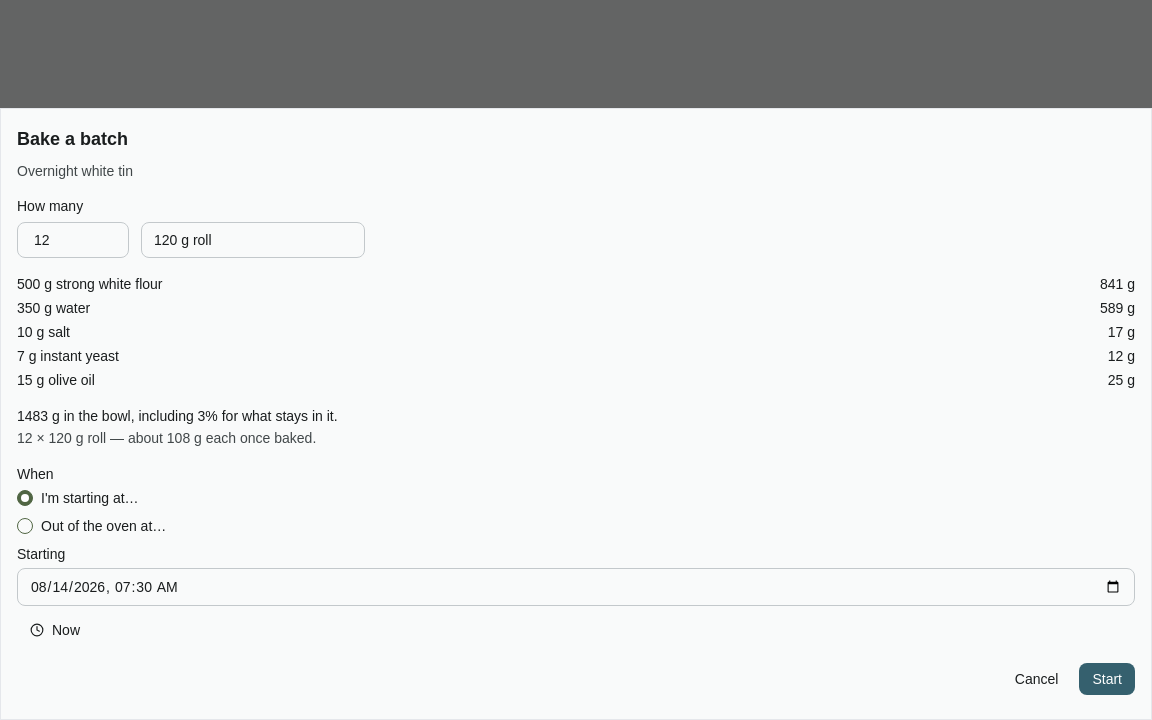
Test: RecipeBakeBatchSheet — what twelve rolls weigh out to › re-solves the moment the count changes
Expected: the list with test id "bake-batch-preview" is shown, top-left (17, 274), bottom-right (1135, 390)
Step 1. Replace the text in the field with test id "bake-batch-count" with "6" → [124, 240], box top-left (34, 230), bottom-right (215, 250)
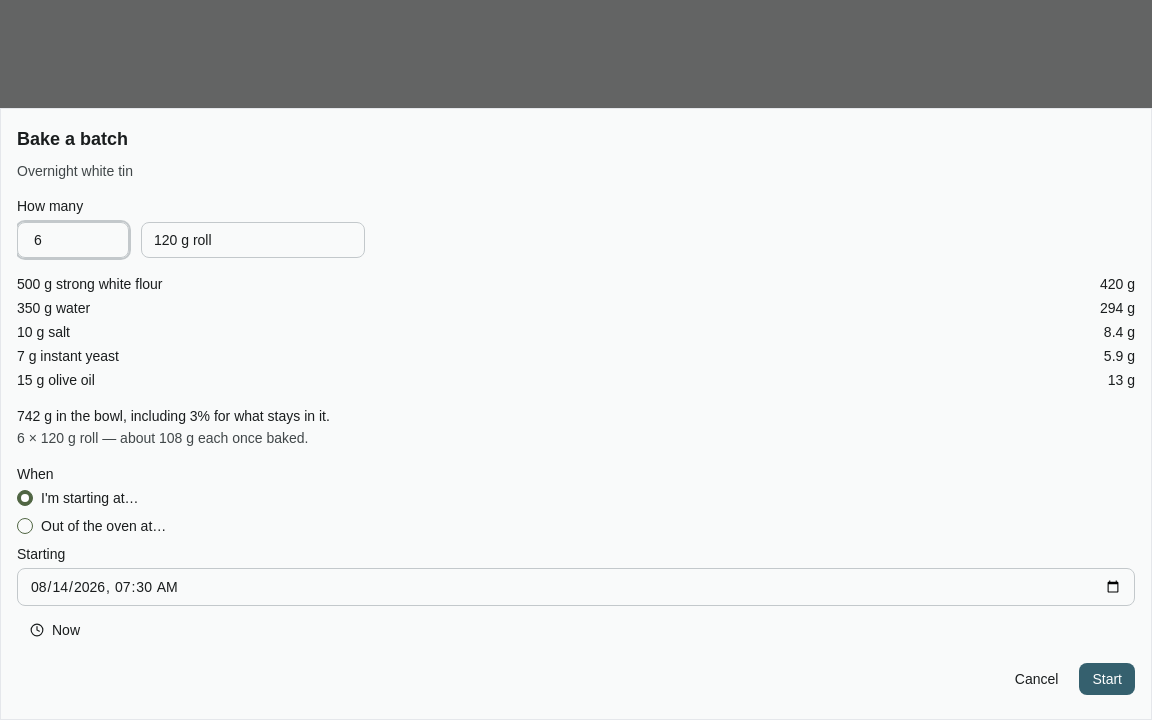
Result: the text with test id "bake-batch-preview-grams" reads "420 g" at top-left (1100, 276), bottom-right (1135, 292)
Result: the text with test id "bake-batch-total-grams" reads "742 g" at top-left (17, 408), bottom-right (52, 424)
